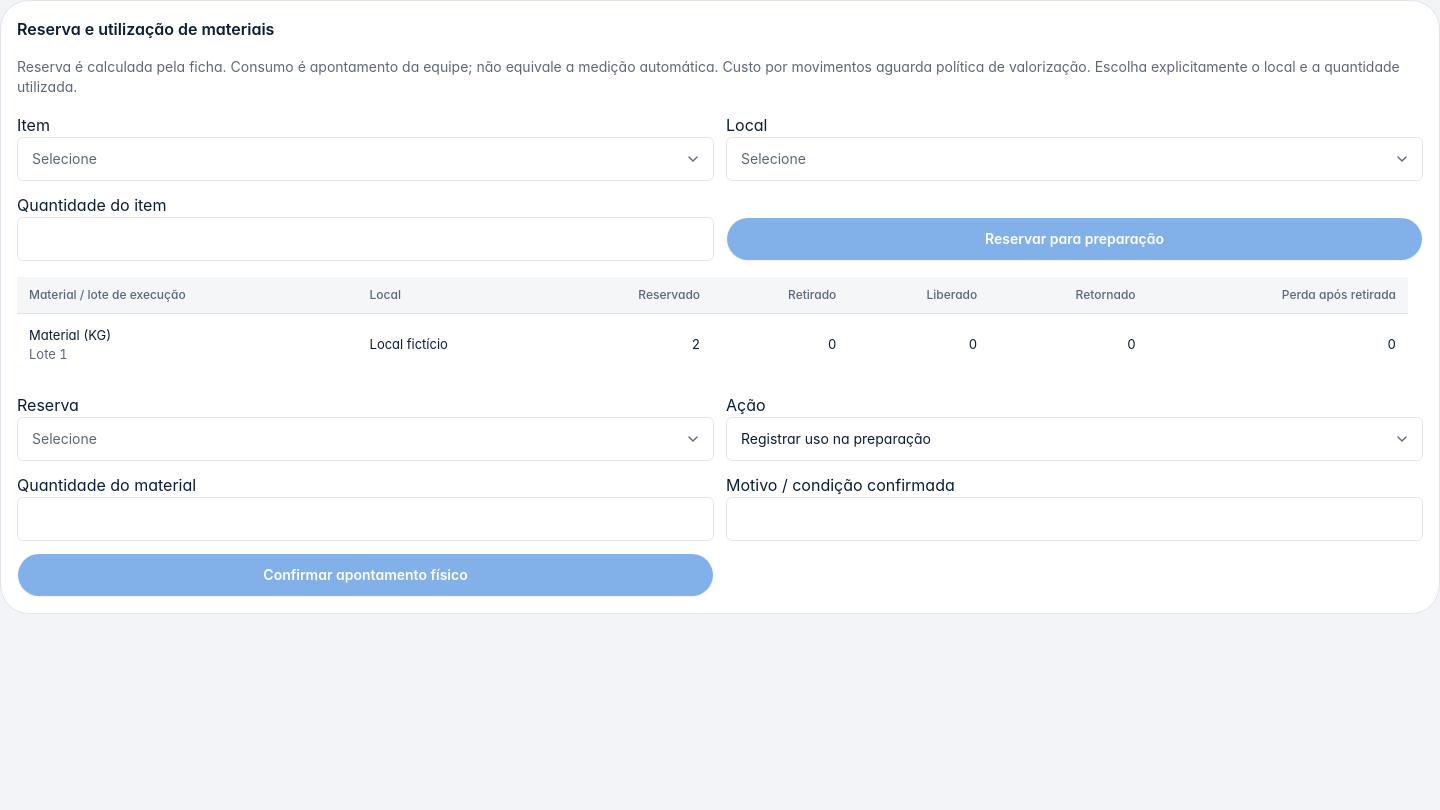
Test case: materiais preservam preenchimento na recusa e separam quantidade comercial do material
Click the dropdown named "Item": (64, 158) [17, 137, 714, 181]
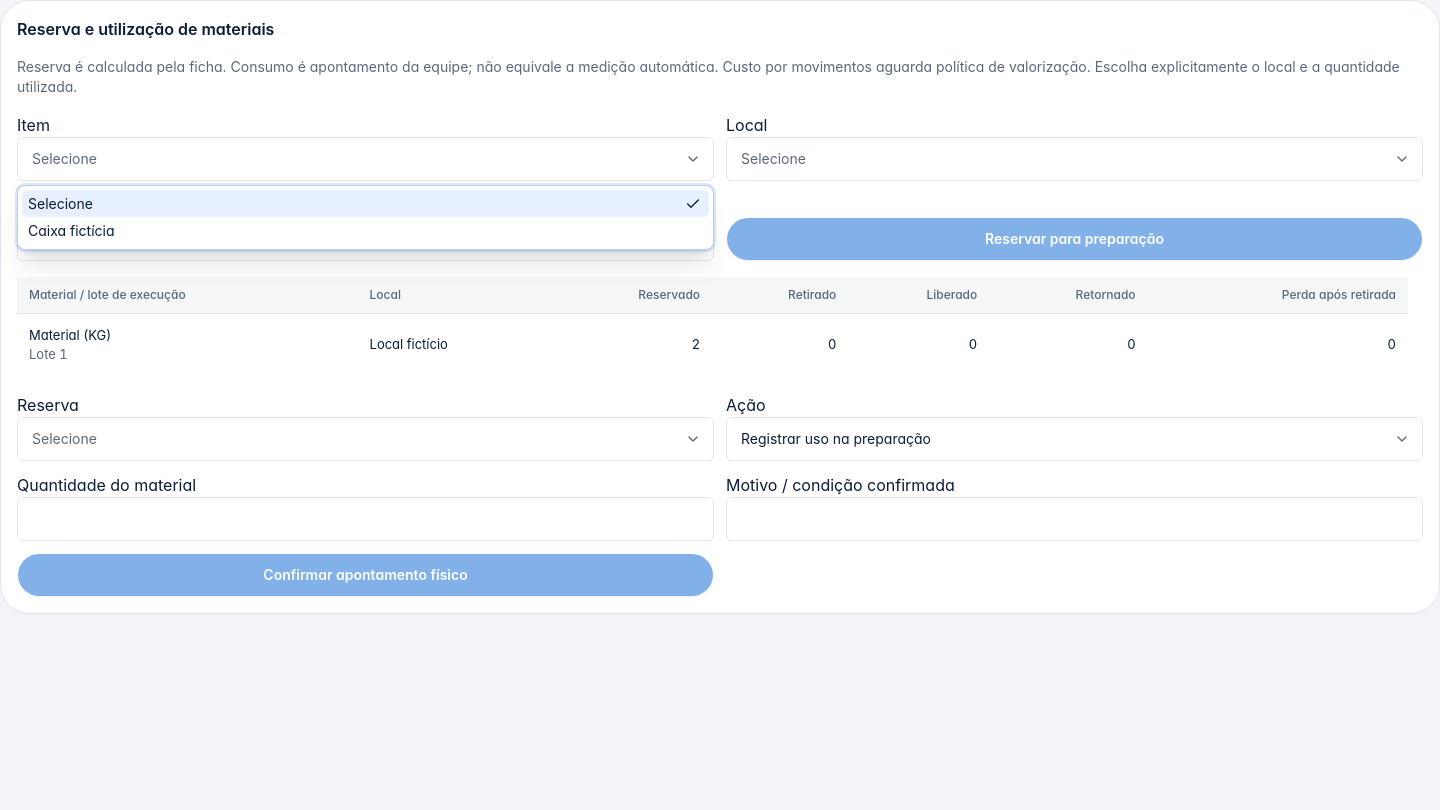
Click the option "Caixa fictícia": (71, 231) [28, 222, 114, 239]
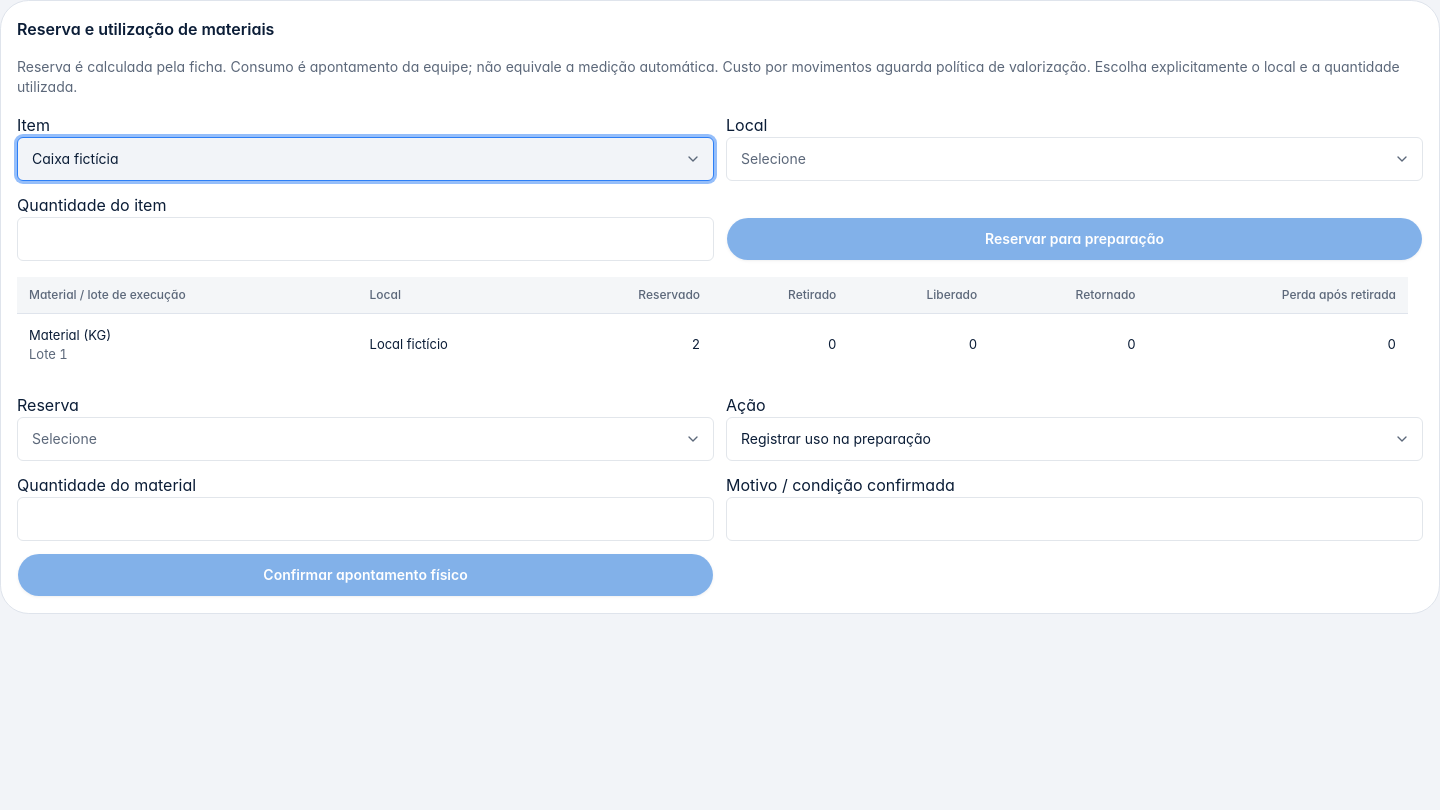
Click the dropdown named "Local": (773, 158) [726, 137, 1423, 181]
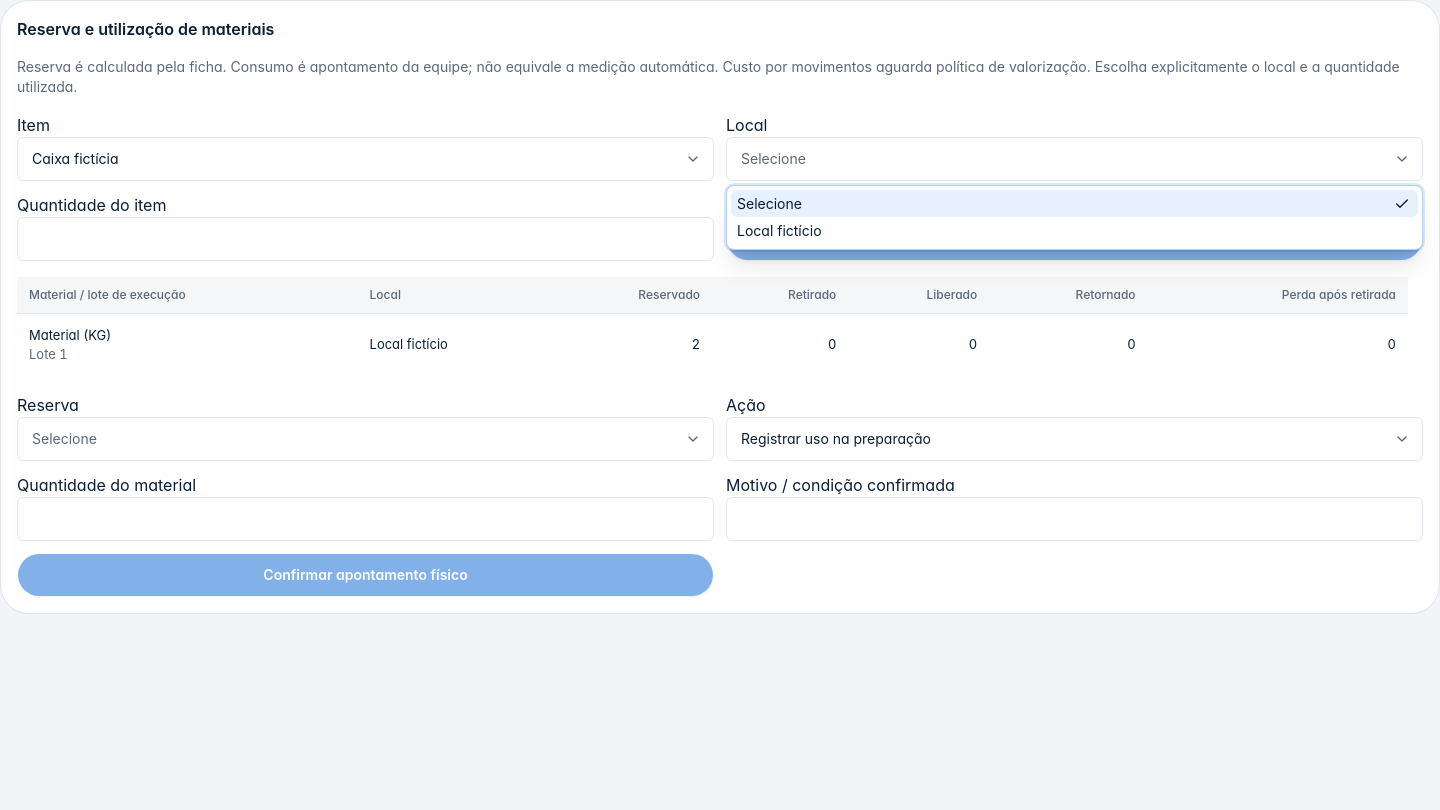
Click the option "Local fictício": (779, 231) [737, 222, 822, 239]
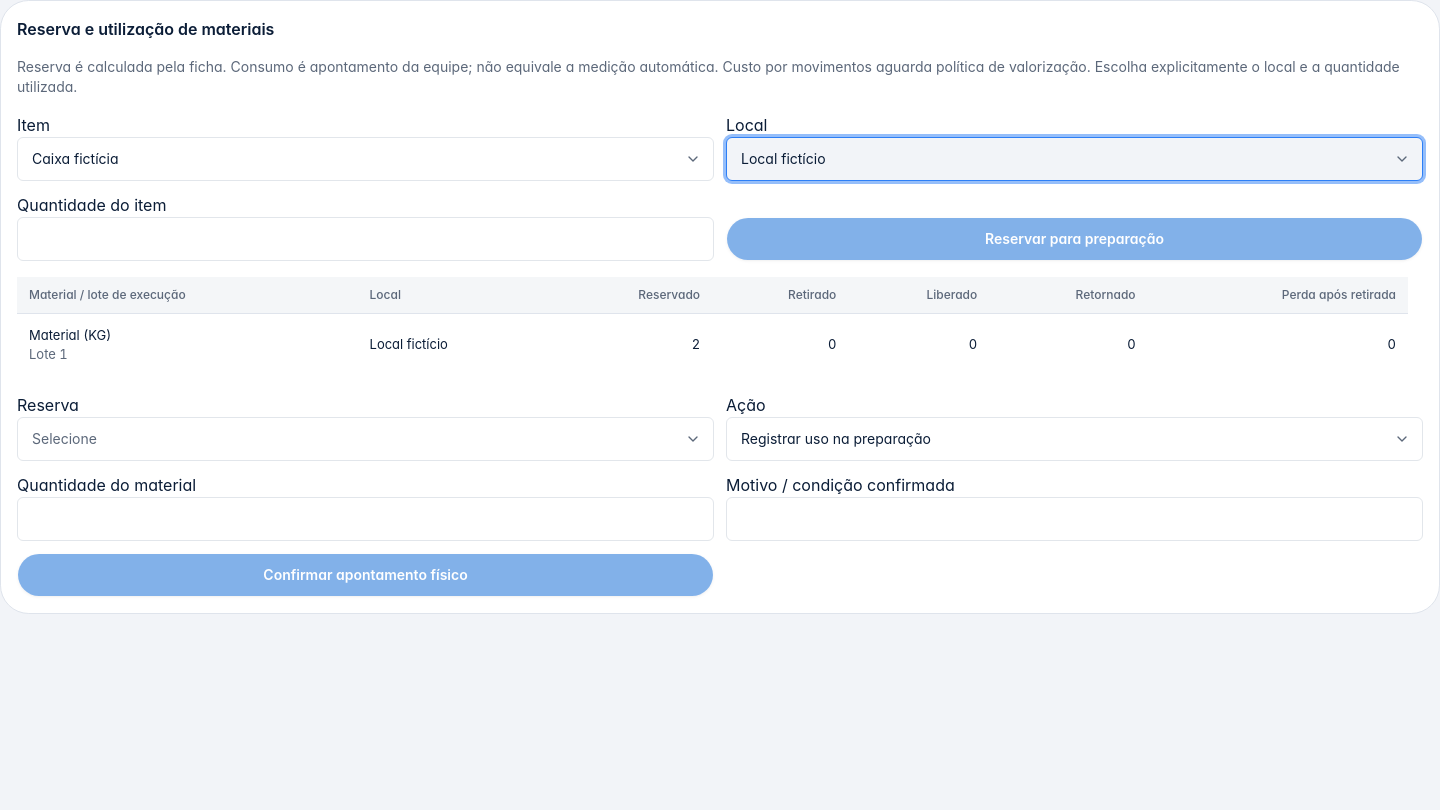
In the field labelled "Quantidade do item": (366, 239) [17, 217, 714, 261], type "2"
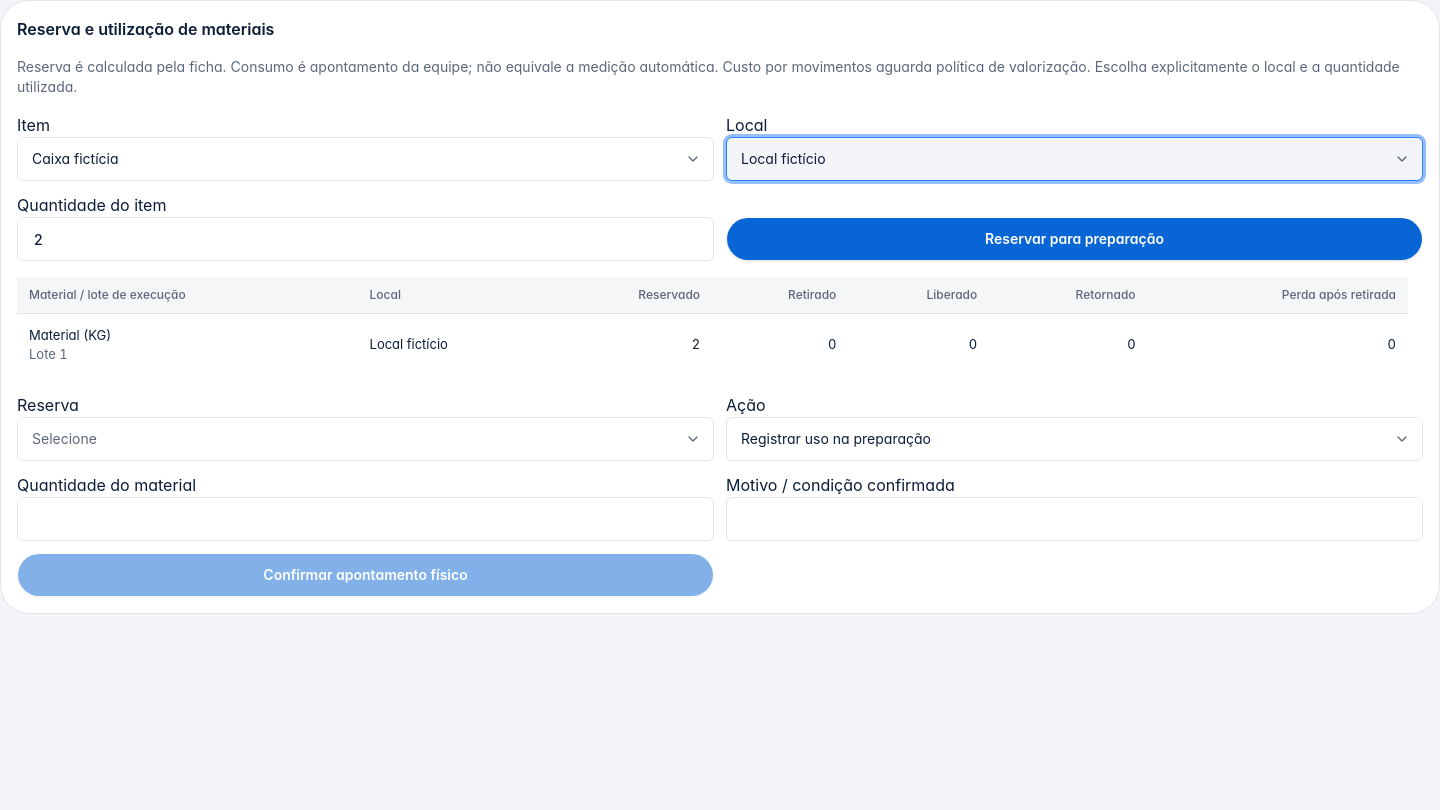
In the field labelled "Quantidade do material": (366, 518) [17, 496, 714, 540], type "0.5"
Click the button "Reservar para preparação": (1074, 239) [726, 217, 1423, 261]
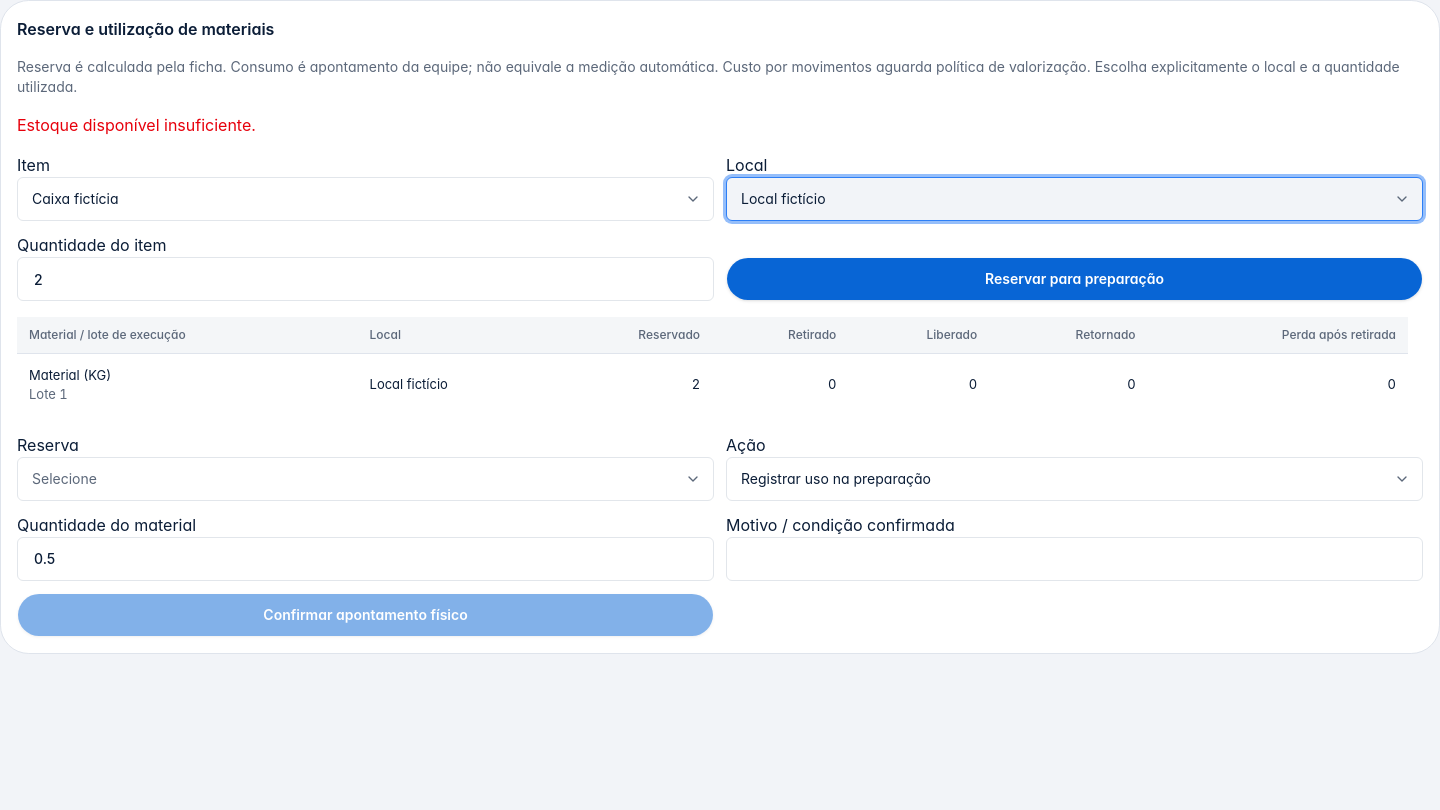
Expected: the message shows "insuficiente", [17, 115, 256, 135]
